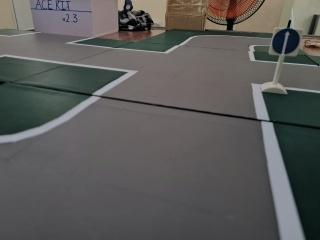straight: (266, 26, 304, 57)
